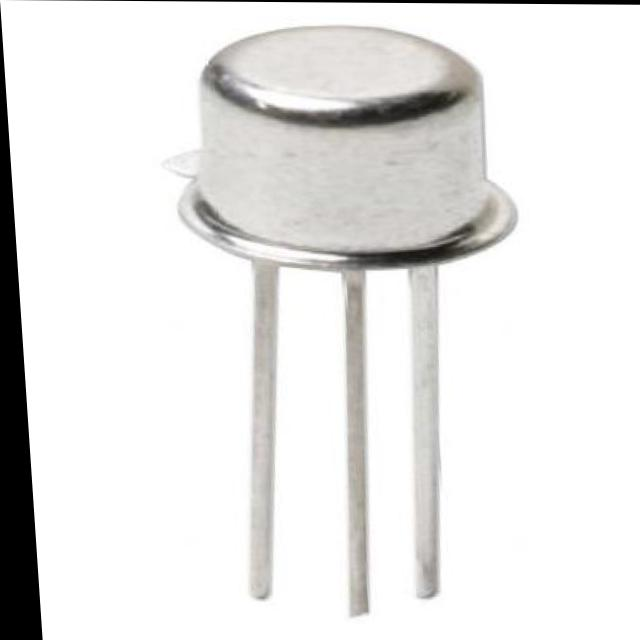Transistor: (191, 24, 512, 260)
